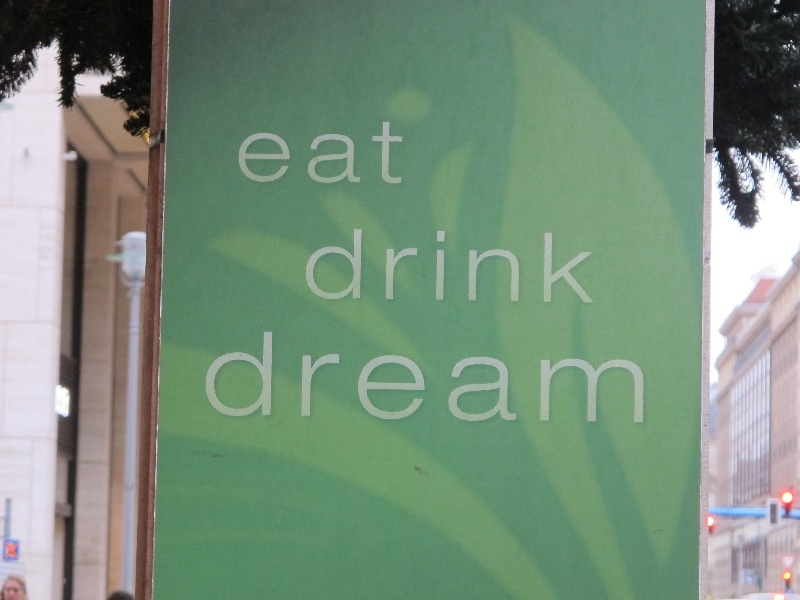text: (209, 332, 224, 426), (225, 332, 240, 426), (241, 332, 256, 426), (257, 332, 272, 426), (273, 332, 288, 426), (289, 332, 304, 426), (305, 332, 320, 426), (321, 332, 336, 426), (337, 332, 352, 426), (353, 332, 368, 426), (369, 332, 384, 426), (385, 332, 400, 426), (401, 332, 416, 426), (417, 332, 432, 426), (433, 332, 448, 426), (449, 332, 464, 426), (465, 332, 480, 426), (481, 332, 496, 426), (497, 332, 512, 426), (513, 332, 528, 426), (529, 332, 544, 426), (545, 332, 560, 426), (561, 332, 576, 426), (577, 332, 592, 426), (593, 332, 608, 426), (609, 332, 624, 426), (625, 332, 640, 426), (577, 229, 593, 305), (321, 229, 336, 305), (337, 229, 352, 305), (353, 229, 368, 305), (369, 229, 384, 305), (385, 229, 400, 305), (401, 229, 416, 305), (417, 229, 432, 305), (433, 229, 448, 305), (449, 229, 464, 305), (465, 229, 480, 305), (481, 229, 496, 305), (497, 229, 512, 305), (513, 229, 528, 305), (529, 229, 544, 305), (545, 229, 560, 305), (561, 229, 576, 305), (306, 229, 320, 305), (241, 122, 256, 184), (257, 122, 272, 184), (273, 122, 288, 184), (289, 122, 304, 184), (305, 122, 320, 184), (321, 122, 336, 184), (337, 122, 352, 184), (353, 122, 368, 184), (369, 122, 384, 184), (385, 122, 400, 184), (641, 332, 644, 426), (401, 122, 403, 184)
